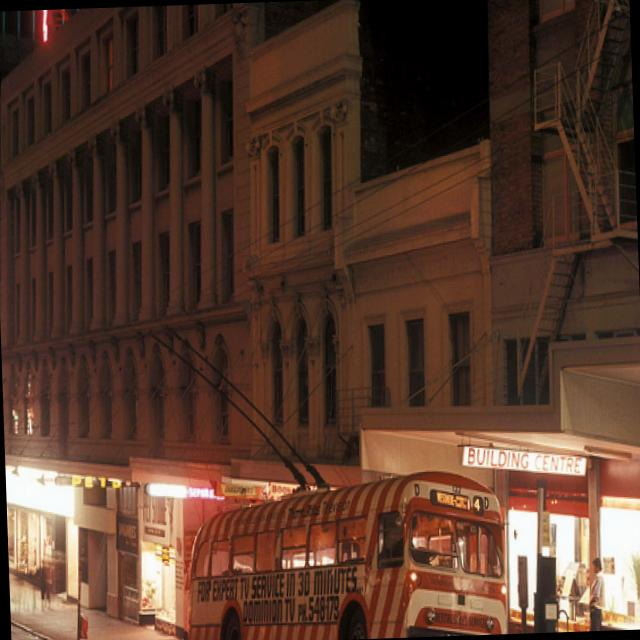Vehicle: (183, 468, 514, 640)
